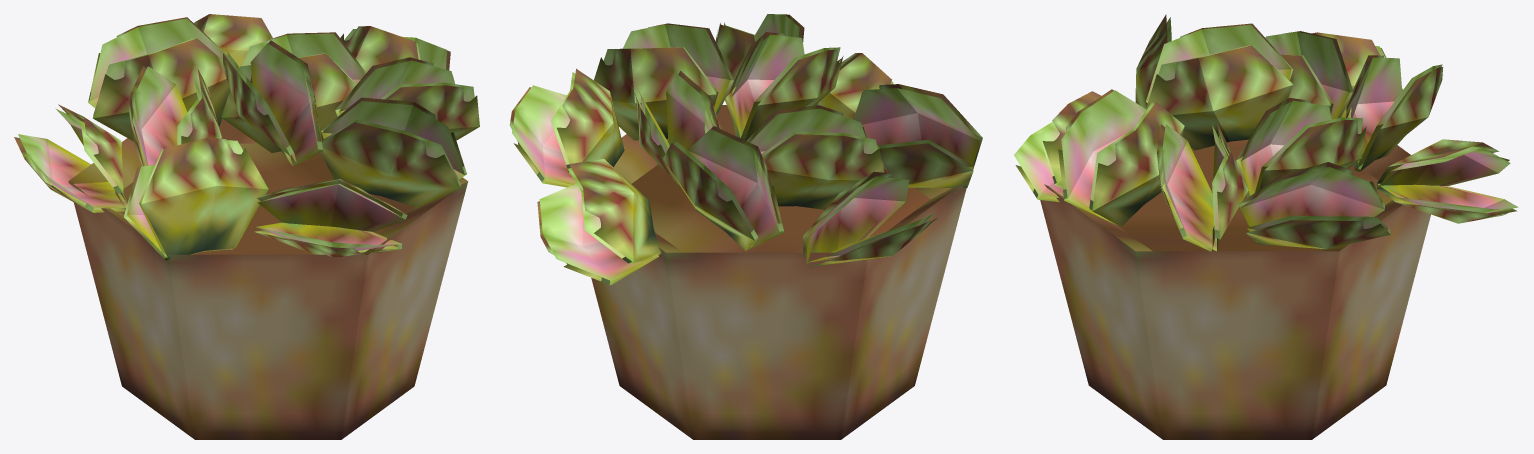
File: Poly_SF_Outside_B_Planter_03.obj
The picture shows the model from 3 angles, left to right: view 1: azimuth 30°, elevation 25°; view 2: azimuth 150°, elevation 25°; view 3: azimuth 270°, elevation 25°; orthographic projection.
Parts seen in each view (by area): view 1: Cube.006, Cube.002, Cube.003; view 2: Cube.002, Cube.006, Cube.003; view 3: Cube.006, Cube.002, Cube.003.
Boxes of the visible parts, x1,y1,x2,y2 form: Cube.006: (68,118,468,439); Cube.002: (14,14,479,212); Cube.003: (124,138,407,260); Cube.002: (509,14,936,284); Cube.006: (591,105,966,439); Cube.003: (815,53,982,187); Cube.006: (1040,139,1430,439); Cube.002: (1058,23,1518,251); Cube.003: (1014,14,1171,202).
Bounding box in the file's own units: 0.6854 × 0.5453 × 0.7287.
1 material, 1 textured.
